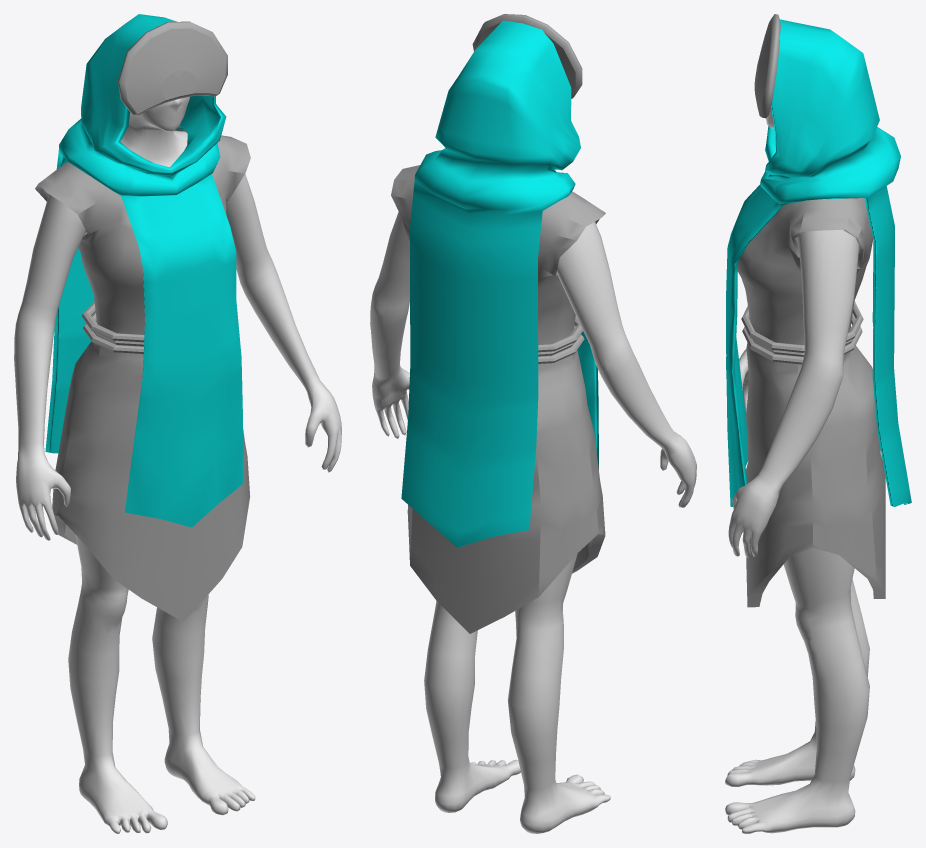
Rendered from rp_character_cultistfemale.fbx.
3 views of the same model, side by side, from view 1: azimuth 30°, elevation 25°; view 2: azimuth 150°, elevation 25°; view 3: azimuth 270°, elevation 25° (orthographic).
Parts seen in each view (by area): view 1: Mesh_High; view 2: Mesh_High; view 3: Mesh_High.
Boxes of the visible parts, <box> form: Mesh_High: <box>14,14,341,833</box>; Mesh_High: <box>370,14,696,833</box>; Mesh_High: <box>725,14,911,833</box>.
Bounding box in the file's own units: 114 × 267 × 57.8.
